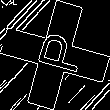P_W: (26, 31, 84, 79)
